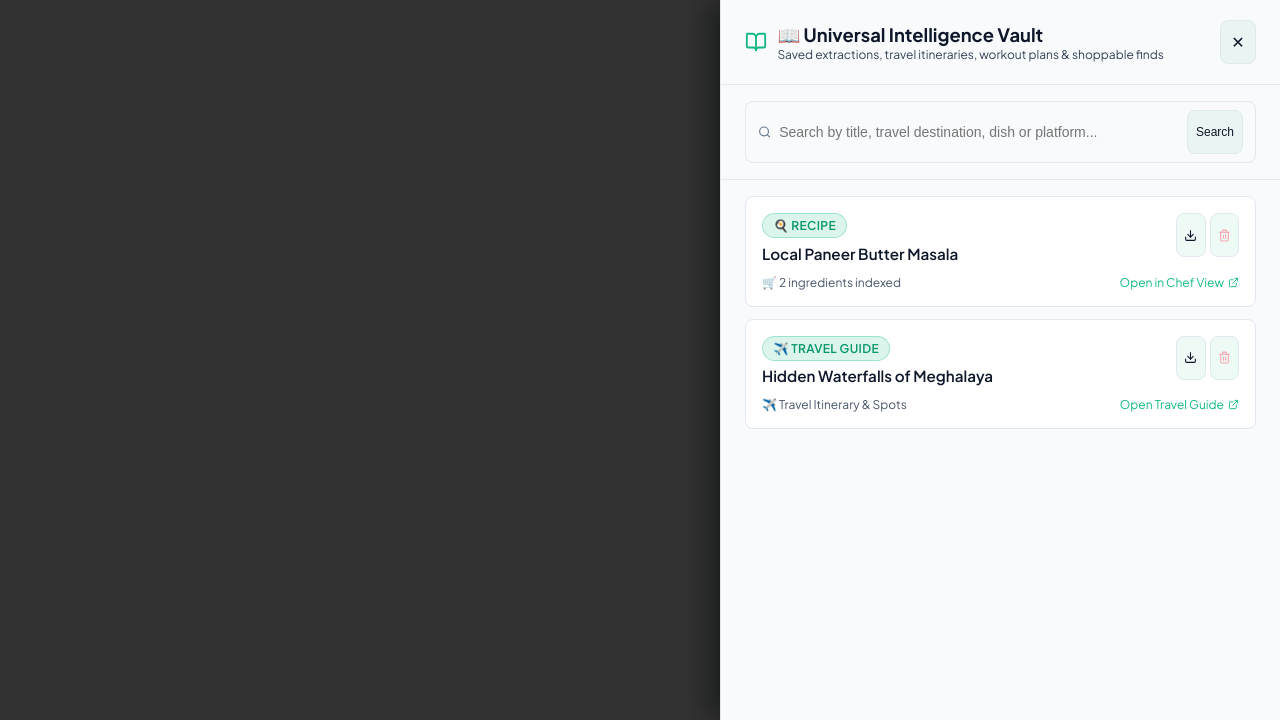
Test case: VaultLibrary Component (UPA-1209) › handles item deletion from vault and local storage
Expected: the heading "Local Paneer Butter Masala" is shown, [762,244,958,263]
Step 1. Click the button titled "Delete from Vault" in the row of "Local Paneer Butter Masala" → {"x": 1224, "y": 235}, box [1210,213,1239,257]
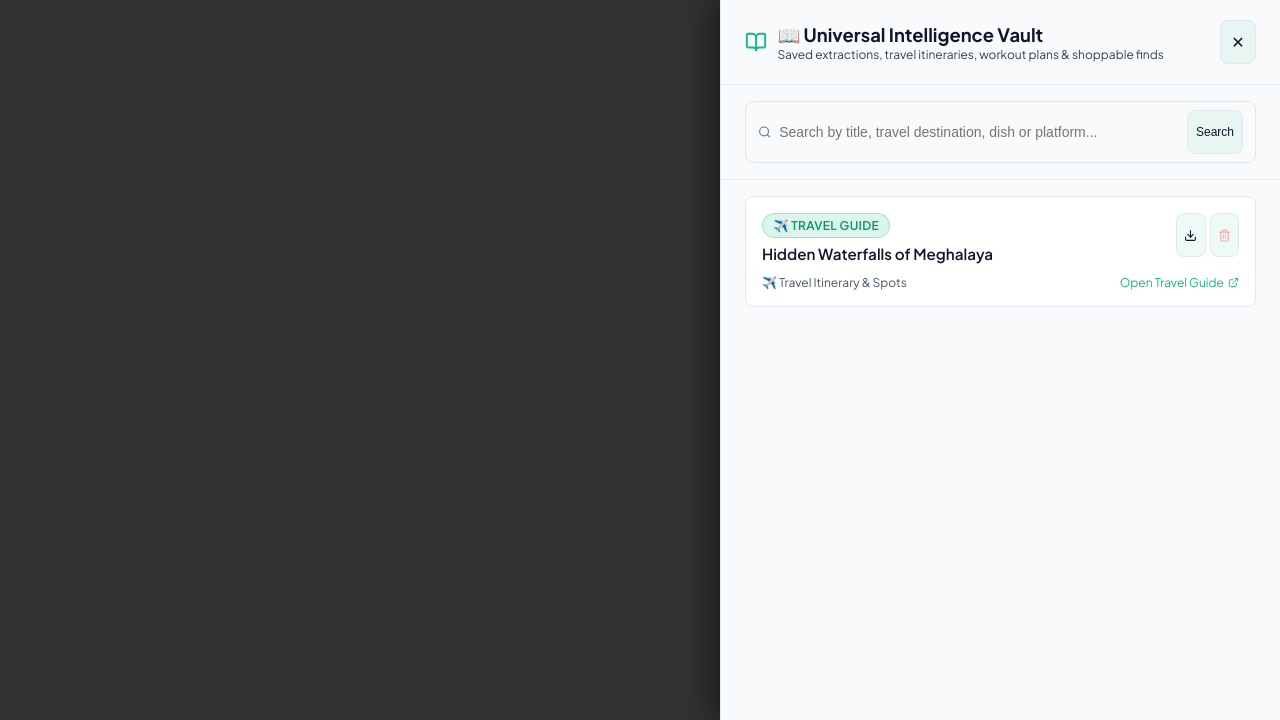
Result: the heading "Local Paneer Butter Masala" is gone
